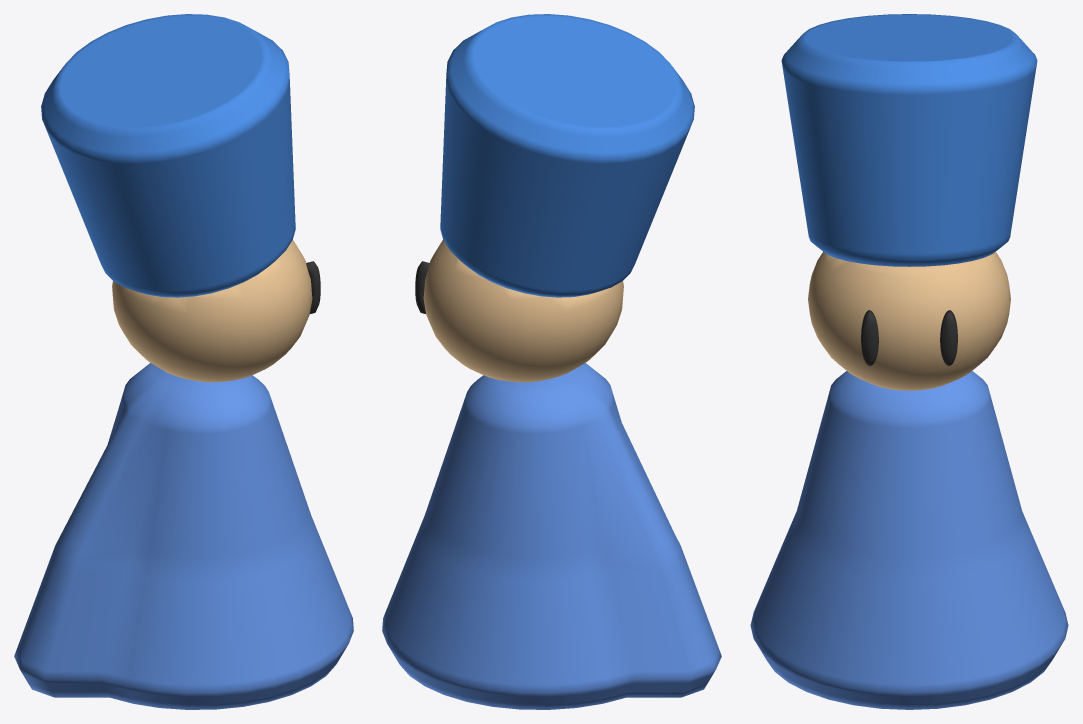
The model's file is mob7.fbx.
The picture shows the model from 3 angles, left to right: view 1: azimuth 30°, elevation 25°; view 2: azimuth 150°, elevation 25°; view 3: azimuth 270°, elevation 25°; orthographic projection.
Visible parts, largest first — view 1: body.003, hat.001, head.001; view 2: body.003, hat.001, head.001; view 3: body.003, hat.001, head.001, eye.003.
Part boxes in pixels (x1,y1,x2,y2): body.003: [14, 363, 353, 709]; hat.001: [41, 14, 295, 297]; head.001: [112, 240, 312, 382]; body.003: [382, 363, 721, 709]; hat.001: [440, 14, 694, 297]; head.001: [423, 240, 623, 382]; body.003: [750, 371, 1068, 709]; hat.001: [781, 14, 1037, 266]; head.001: [808, 251, 1010, 390]; eye.003: [861, 310, 957, 365].
Bounding box in the file's own units: 0.0172 × 0.0319 × 0.015.
